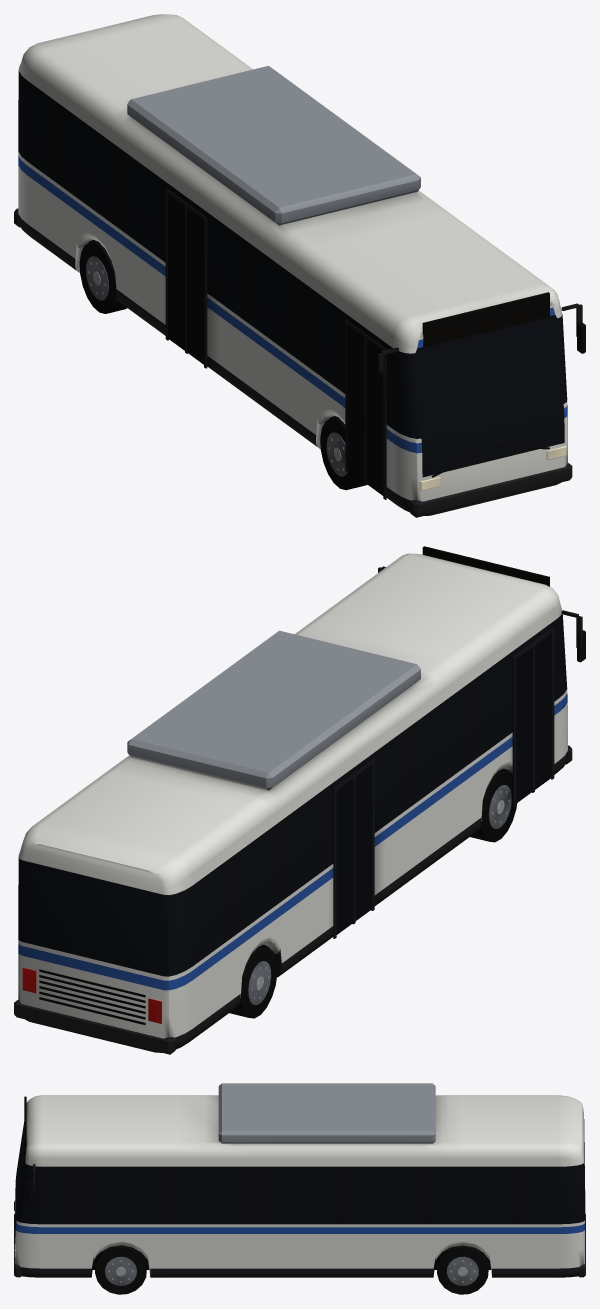
Rendered from prop.town.bus.glb.
The picture shows the model from 3 angles, top to bottom: view 1: azimuth 30°, elevation 25°; view 2: azimuth 150°, elevation 25°; view 3: azimuth 270°, elevation 25°; orthographic projection. The views are drawn at different scales.
Visible parts, largest first — view 1: v0_LOD0; view 2: v0_LOD0; view 3: v0_LOD0.
Boxes of the visible parts, x1,y1,x2,y2 form: v0_LOD0: [14, 14, 585, 517]; v0_LOD0: [14, 546, 585, 1054]; v0_LOD0: [14, 1083, 585, 1294].
Size of what is drawn, in the model's own units: 3.08 by 3.25 by 10.54.
